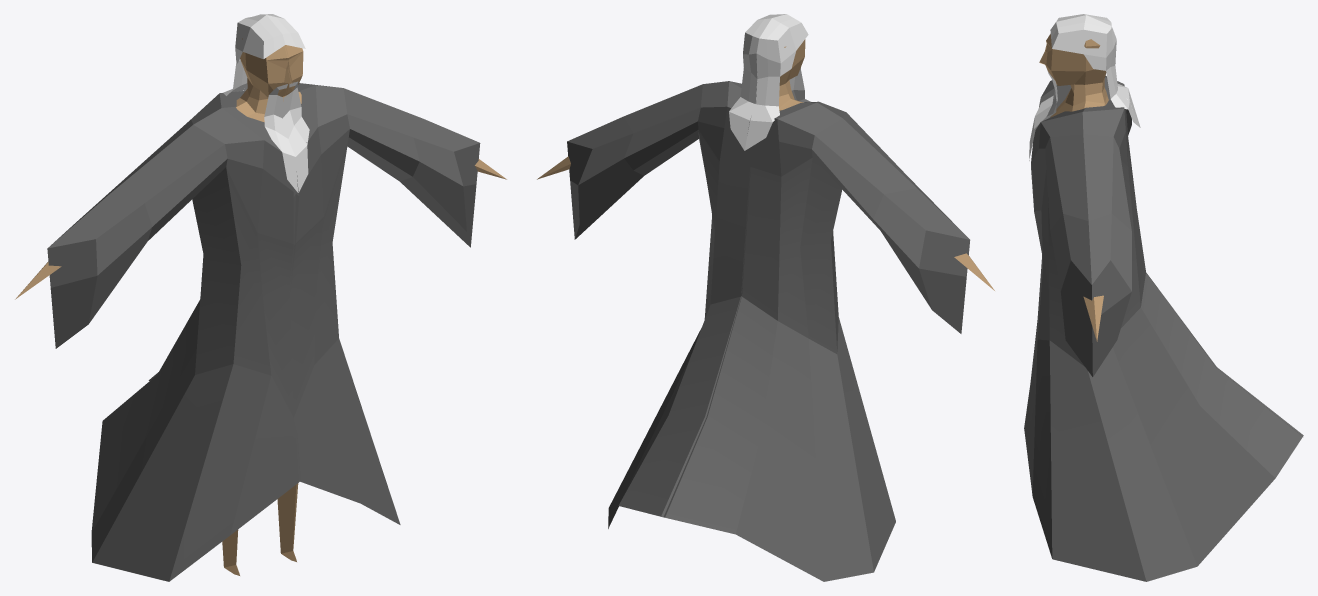
The model's file is bardmage_export.fbx.
The picture shows the model from 3 angles, left to right: view 1: azimuth 30°, elevation 25°; view 2: azimuth 150°, elevation 25°; view 3: azimuth 270°, elevation 25°; orthographic projection. The views are drawn at different scales.
Parts seen in each view (by area): view 1: pCube2, pCube3, polySurface42, pCube7, polySurface43, pCube9, pCube10; view 2: pCube2, pCube3, pCube7, pCube8, polySurface42; view 3: pCube3, polySurface43, pCube8, pCube2, pCube10, pCube7.
Part boxes in pixels (x1=…): pCube2: x1=47, y1=91, x2=300, y2=581; pCube3: x1=148, y1=83, x2=480, y2=524; polySurface42: x1=15, y1=38, x2=292, y2=575; pCube7: x1=223, y1=15, x2=285, y2=95; polySurface43: x1=277, y1=45, x2=506, y2=561; pCube9: x1=282, y1=81, x2=309, y2=192; pCube10: x1=264, y1=84, x2=298, y2=192; pCube2: x1=661, y1=101, x2=970, y2=581; pCube3: x1=567, y1=81, x2=751, y2=528; pCube7: x1=744, y1=14, x2=808, y2=150; pCube8: x1=729, y1=14, x2=785, y2=150; polySurface42: x1=779, y1=39, x2=994, y2=290; pCube3: x1=1024, y1=100, x2=1303, y2=581; polySurface43: x1=1039, y1=34, x2=1108, y2=341; pCube8: x1=1050, y1=15, x2=1140, y2=127; pCube2: x1=1024, y1=75, x2=1302, y2=436; pCube10: x1=1029, y1=84, x2=1057, y2=160; pCube7: x1=1056, y1=14, x2=1139, y2=125.
Size of the model in its own units: 56.61 by 60.64 by 29.75.
